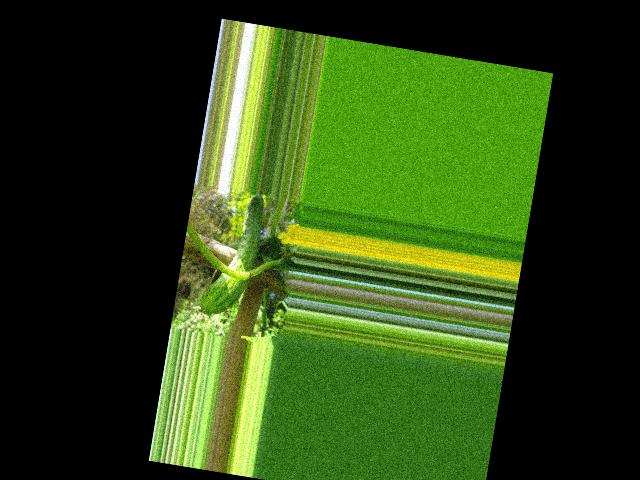cucumber: (200, 187, 267, 321)
